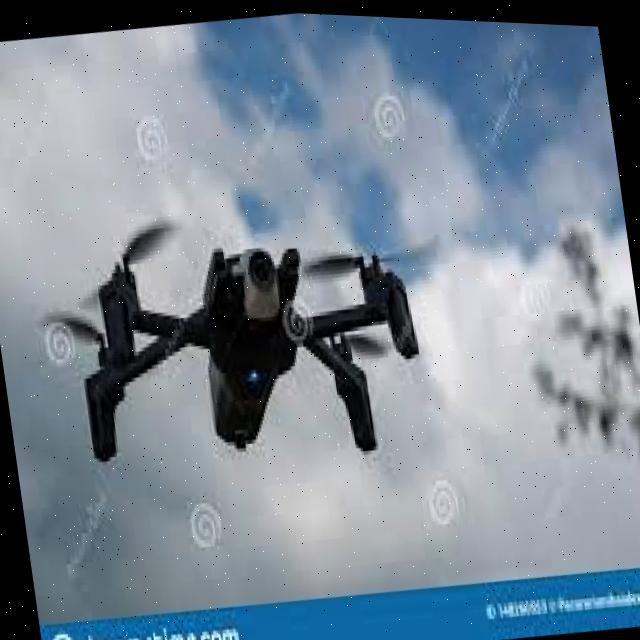drone: (36, 179, 455, 521)
